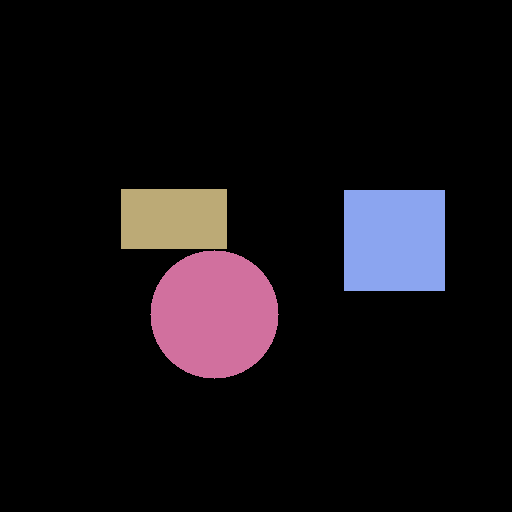circle: (150, 250, 278, 378)
rectangle: (121, 189, 226, 248)
square: (344, 190, 444, 290)
